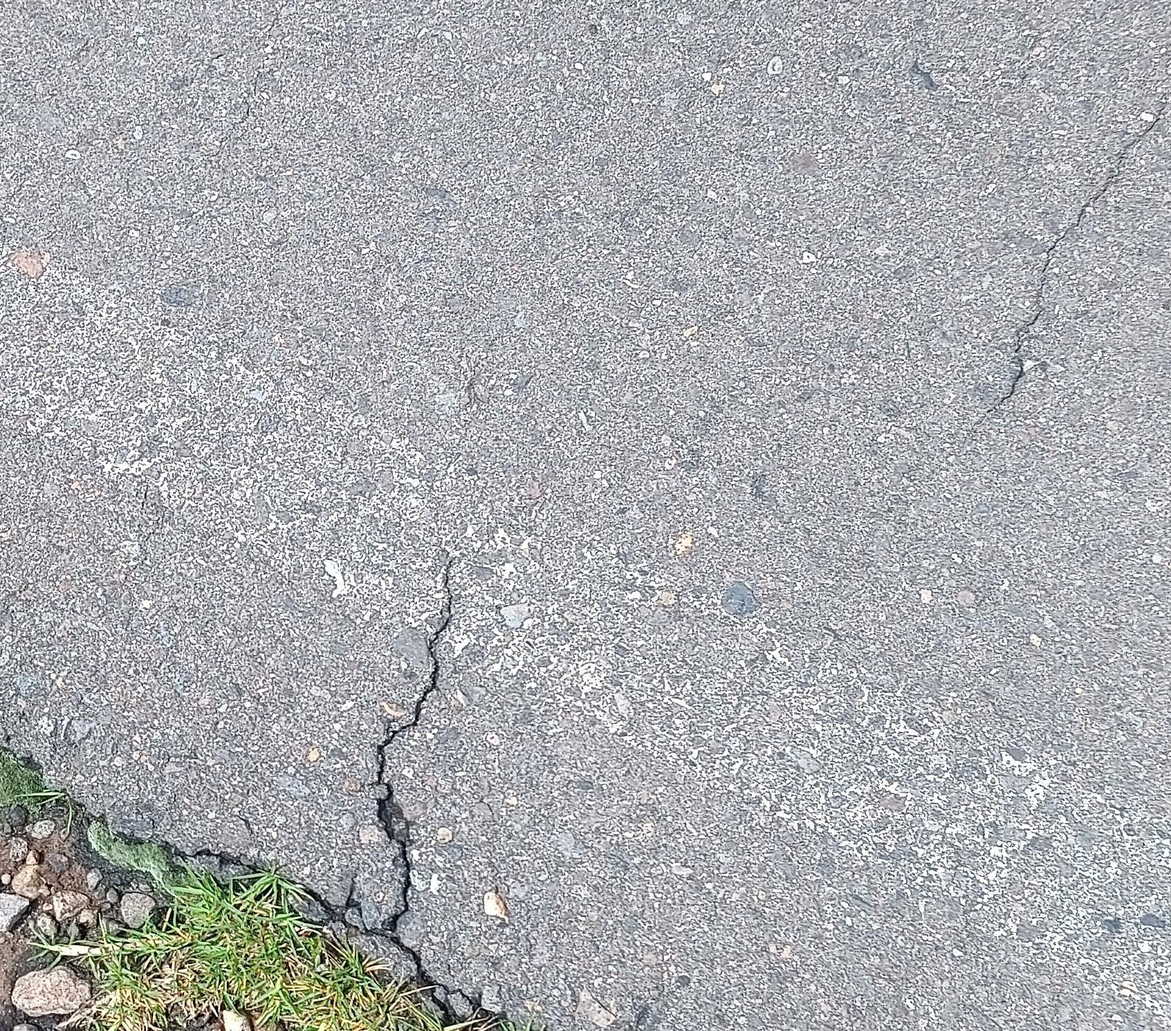GRIETA: (375, 557, 456, 932), (1040, 117, 1160, 275), (986, 308, 1045, 416)
